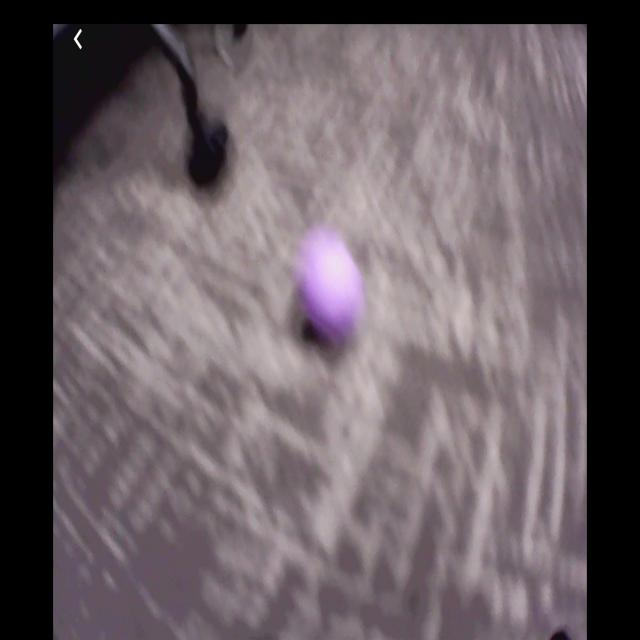ball: (304, 247, 363, 342)
